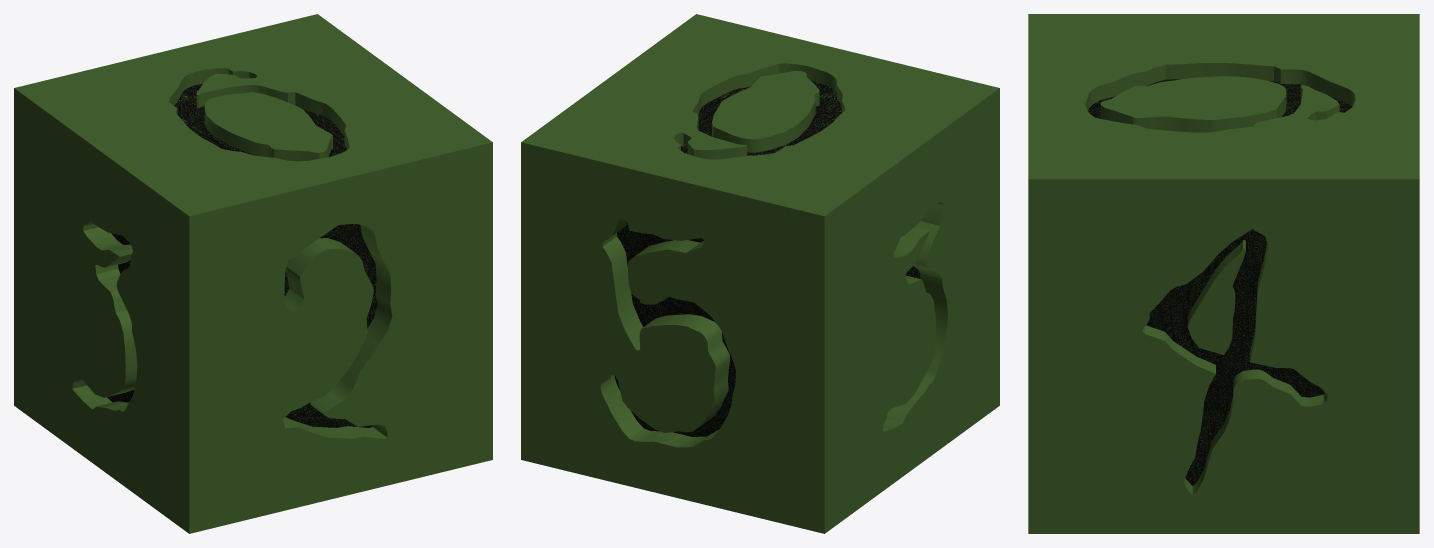
File: dice_6.dae
The picture shows the model from 3 angles, left to right: view 1: azimuth 30°, elevation 25°; view 2: azimuth 150°, elevation 25°; view 3: azimuth 270°, elevation 25°; orthographic projection. The views are drawn at different scales.
Parts seen in each view (by area): view 1: group_0 (×7); view 2: group_0 (×7); view 3: group_0 (×7).
Part boxes in pixels (x1,y1,x2,y2): group_0 (×7): [14, 14, 492, 533]; group_0 (×7): [521, 14, 999, 533]; group_0 (×7): [1028, 14, 1419, 533].
Size of the model in its own units: 74.41 by 74.41 by 74.41.
